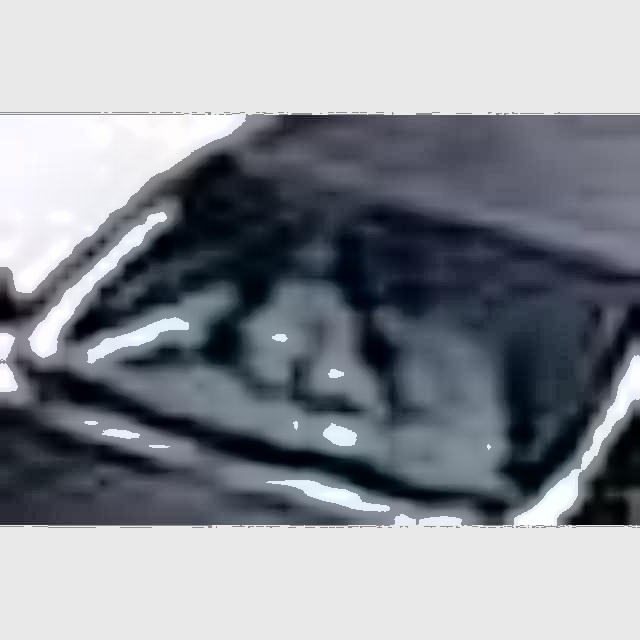pakai: (242, 236, 483, 453)
